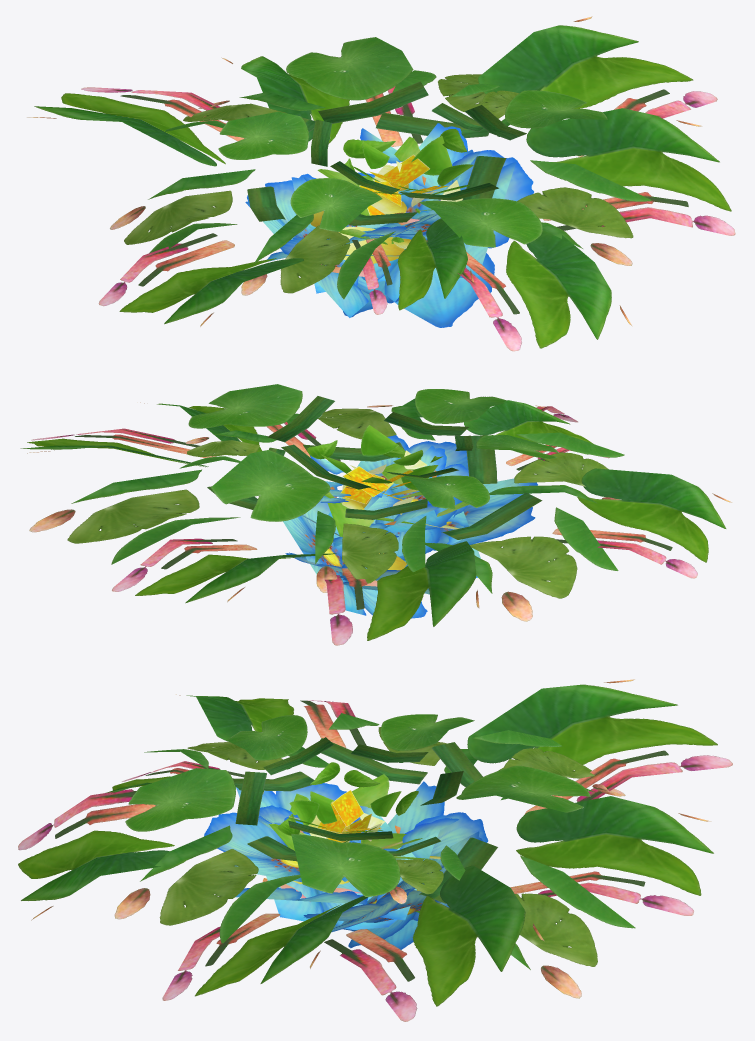
File: Scene_cao_003.FBX
3 views of the same model, one above another, from view 1: azimuth 30°, elevation 25°; view 2: azimuth 150°, elevation 25°; view 3: azimuth 270°, elevation 25° (orthographic). The views are drawn at different scales.
Visible parts, largest first — view 1: Scene_cao_003; view 2: Scene_cao_003; view 3: Scene_cao_003.
Part boxes in pixels (x1,y1,x2,y2): Scene_cao_003: (27,16,735,351); Scene_cao_003: (20,384,732,645); Scene_cao_003: (18,679,732,1021).
Bounding box in the file's own units: 54.98 × 15.25 × 49.37.
